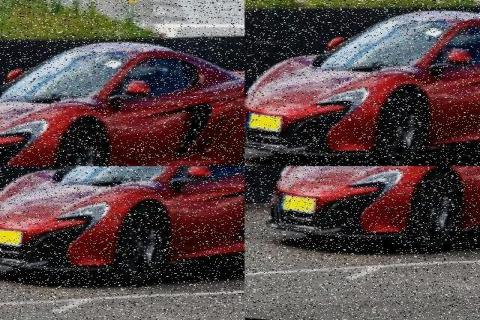LicensePlate: (60, 260, 125, 308), (281, 194, 315, 212)
